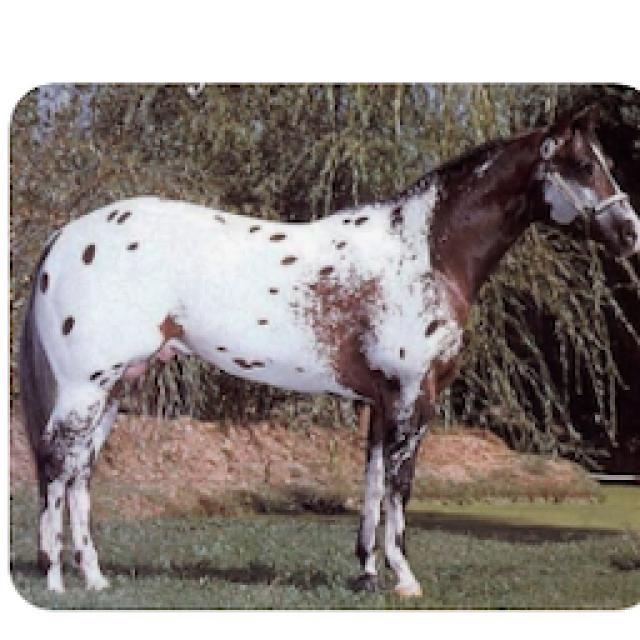Horse: (15, 95, 638, 598)
